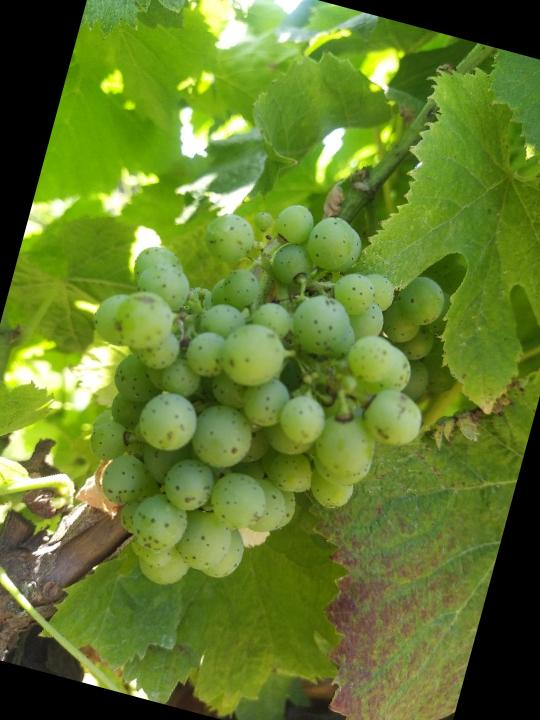grape: (26, 158, 471, 640)
